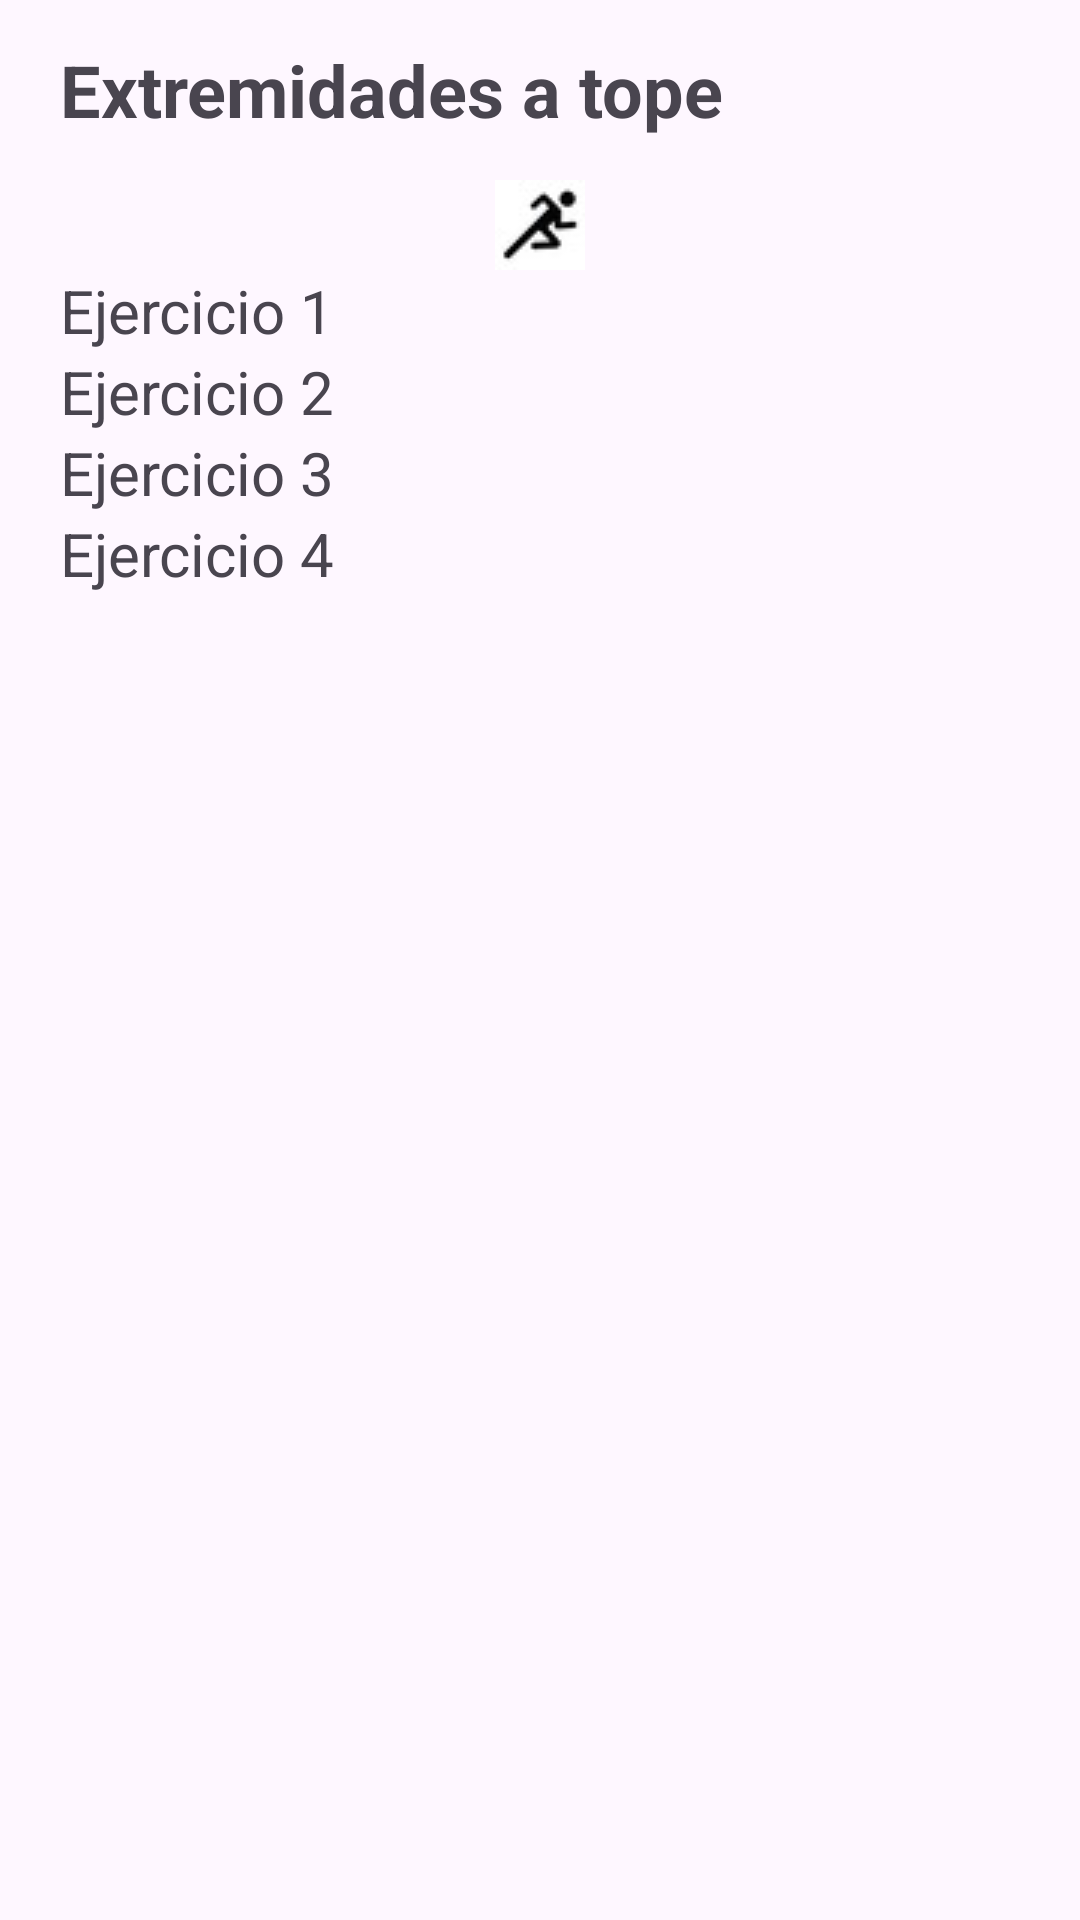

Named icons in this screenshot (1080x1920) and their bounding boxes, {"x1": x1, "y1": y1, "x2": x2, "y2": y2}:
sprint: {"x1": 503, "y1": 188, "x2": 578, "y2": 260}
